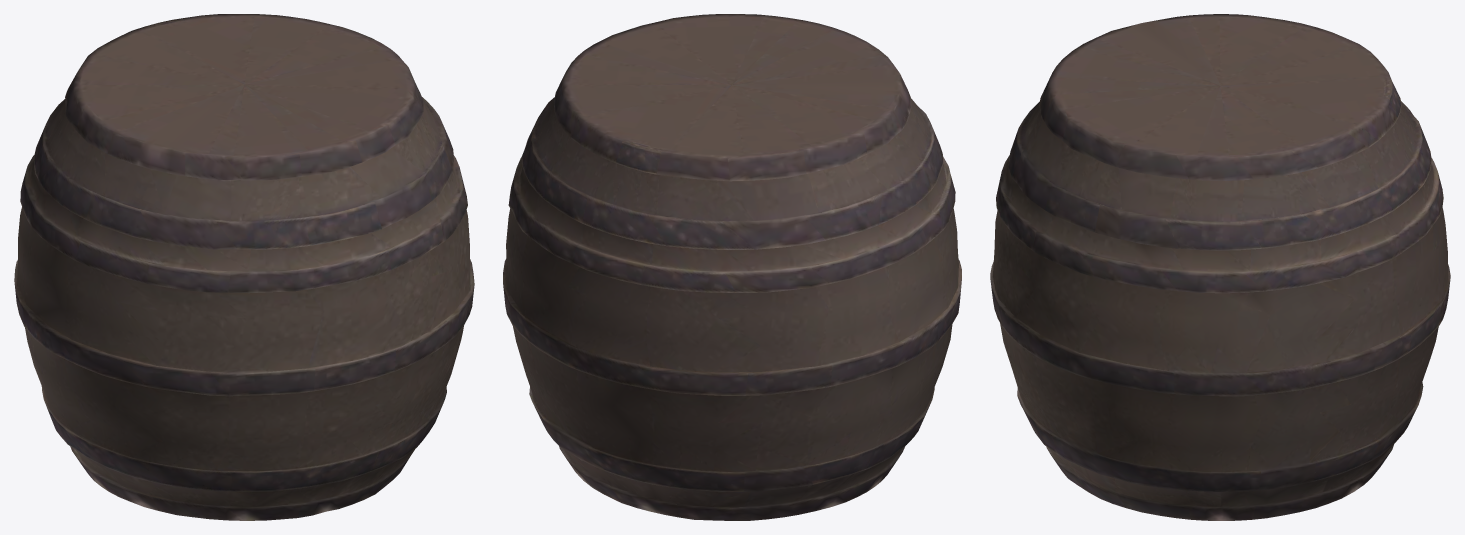
The model's file is barrel.glb.
The picture shows the model from 3 angles, left to right: view 1: azimuth 30°, elevation 25°; view 2: azimuth 150°, elevation 25°; view 3: azimuth 270°, elevation 25°; orthographic projection.
Bounding box in the file's own units: 0.9536 × 0.8339 × 0.9497.
1 material, 1 textured.
